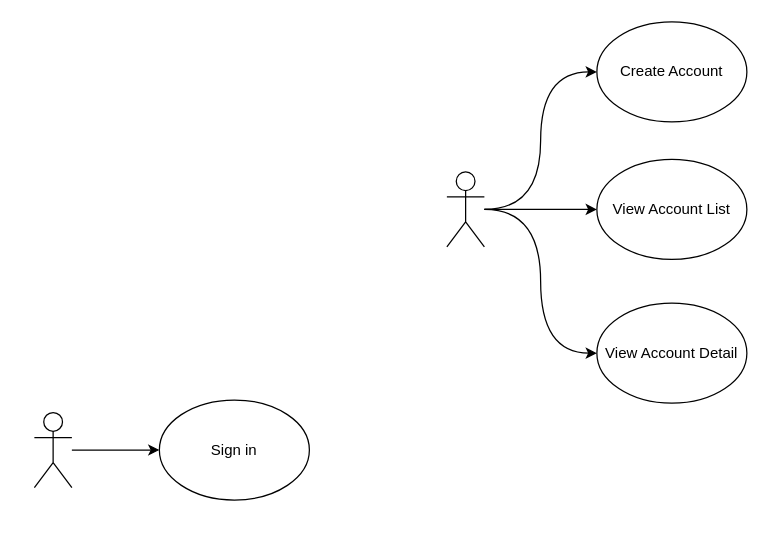
The diagram is 769 pixels wide and 535 high, and some of its shapes have lost their labels. The centre of each missing label's shape, as x and y in pixels:
Admin: the point at 465,209
Everyone: the point at 52,449
